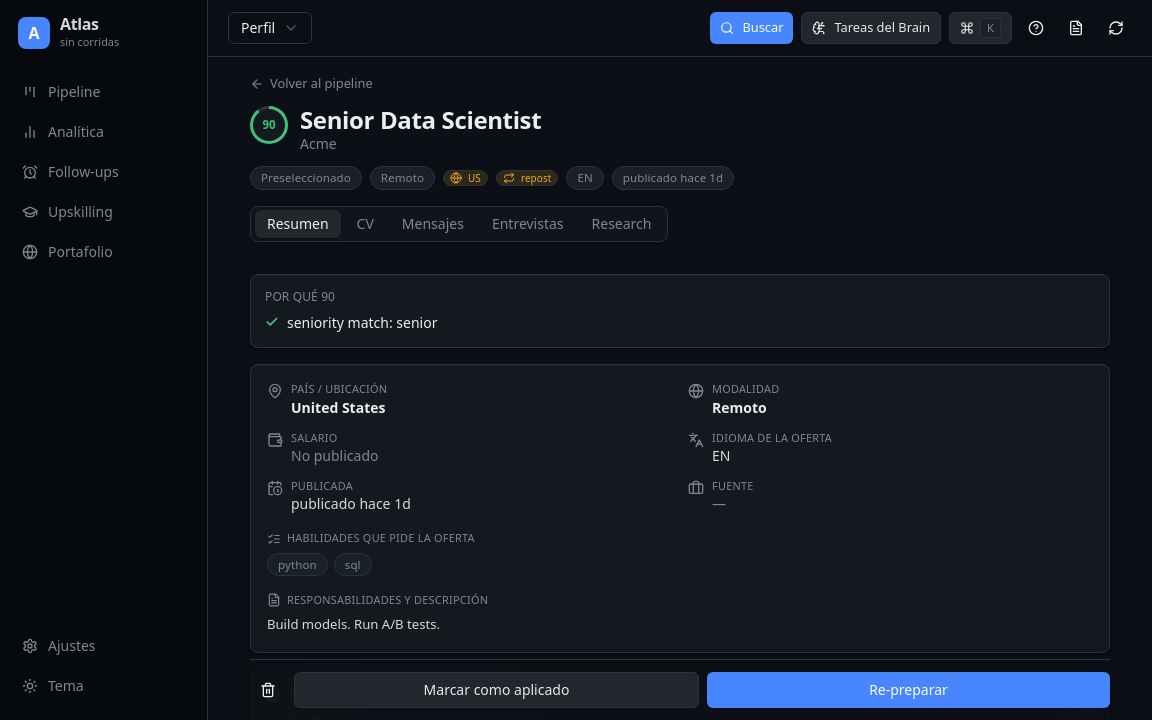
Test case: JobDetailPage — página /jobs/:id con tabs › el tab CV muestra la revisión determinista (review.md) cuando está presente
Expected: the heading "Senior Data Scientist" is shown, [300,103,541,136]
Click the tab "CV" at [365, 224], box [345,210,386,238]
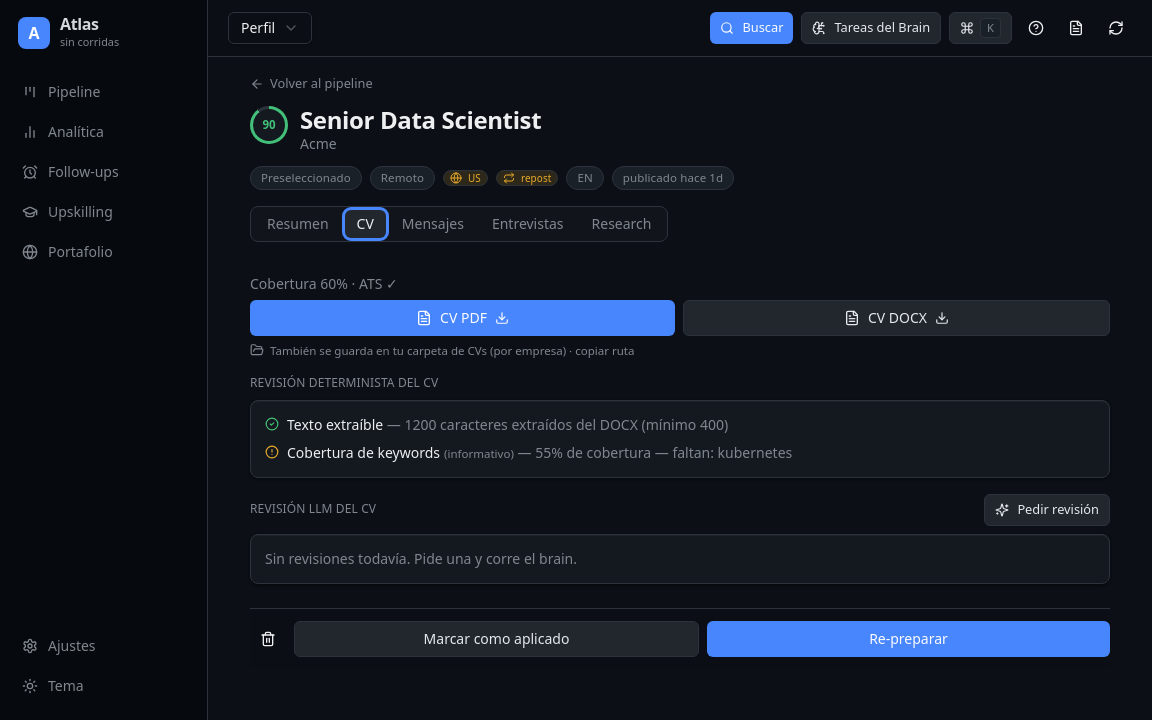
Expected: the text "Texto extraíble" is shown, [287,415,383,434]
Expected: the text "— 1200 caracteres extraídos del DOCX (mínimo 400)" is shown, [383,415,728,434]
Expected: the text "Cobertura de keywords" is shown, [287,443,440,462]
